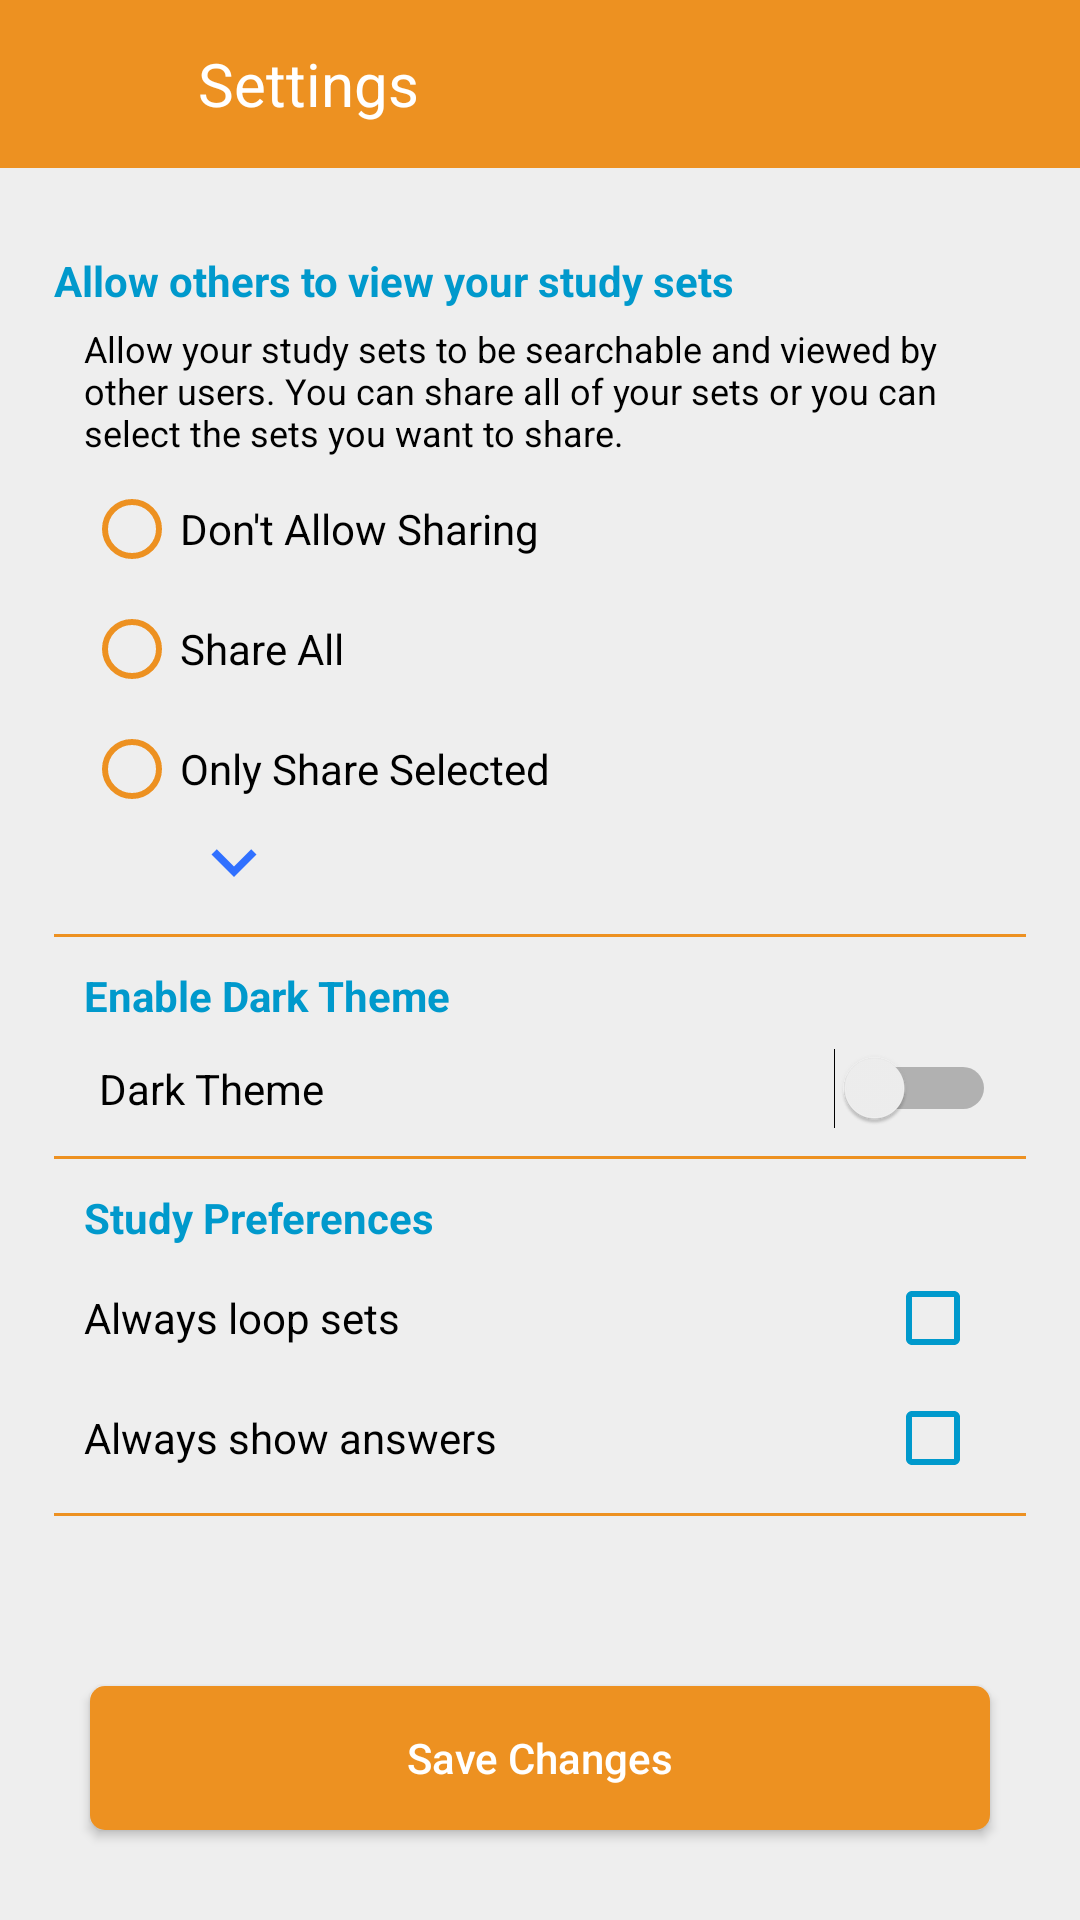

Named icons in this screenshot (1080px x 1920px) and their centers, (x=x, y=y):
expand: (x=234, y=863)
